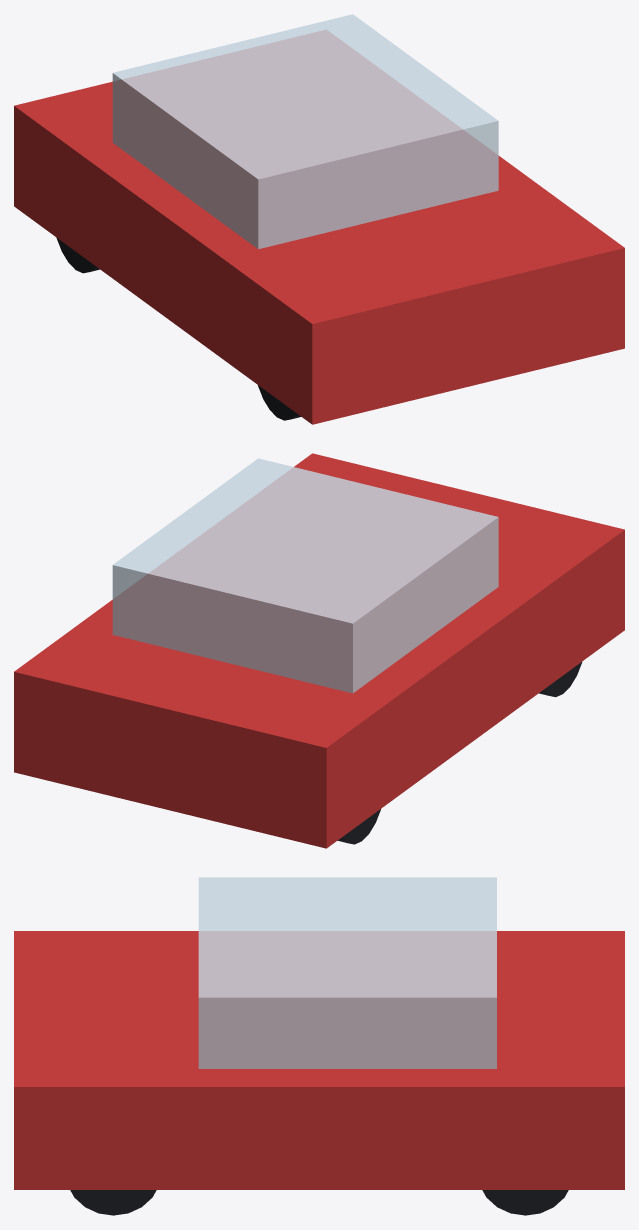
Rendered from obstacle-car.gltf.
3 renders of one model, top to bottom at view 1: azimuth 30°, elevation 25°; view 2: azimuth 150°, elevation 25°; view 3: azimuth 270°, elevation 25°, orthographic. The views are drawn at different scales.
Bounding box in the file's own units: 2.6 × 1.61 × 4.3.
